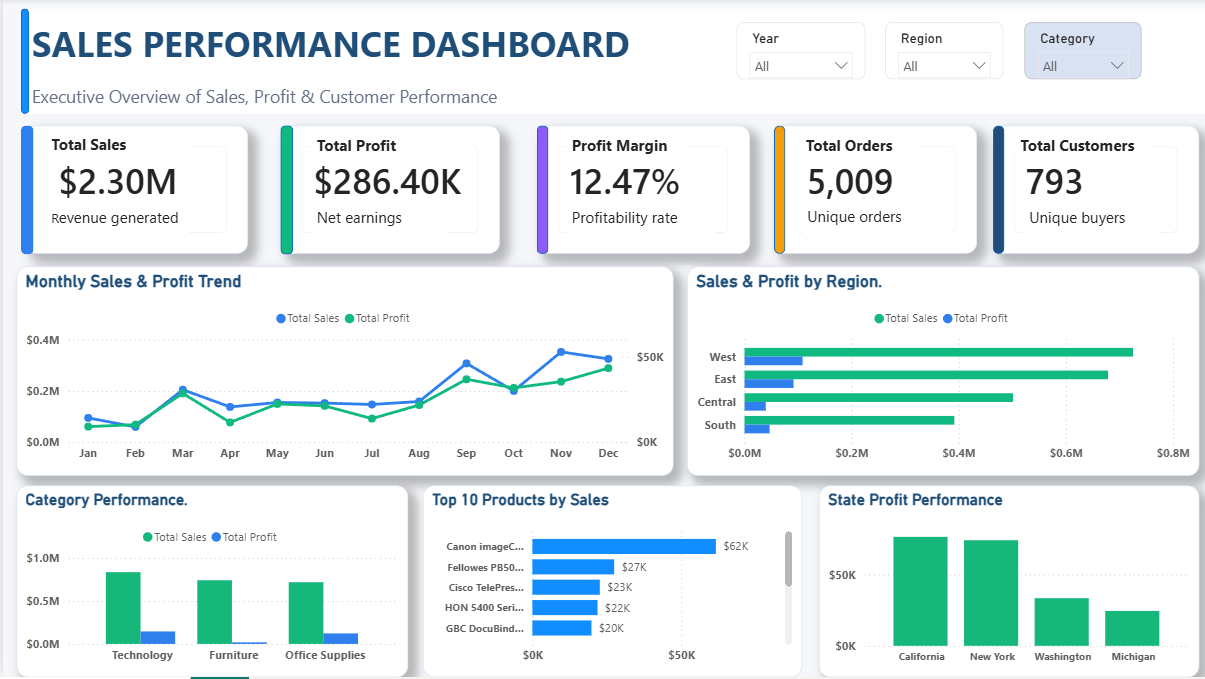

Layout of this report page (visuals, bound fields, positions):
{"tool":"powerbi","page":{"name":"Executive Overview","canvas":[1280,720],"ordinal":0},"visuals":[{"type":"textbox","box":[25,11.7,1255,75],"z":0},{"type":"textbox","box":[25,86.7,1255,36.7],"z":1000},{"type":"slicer","title":"Region","fields":{"Values":["Calendar.Year"]},"box":[777.8,25.4,136.8,60.4],"z":2000},{"type":"slicer","title":"Region","fields":{"Values":["cleaned_superstore_sales.Region"]},"box":[935.3,25.4,125.7,60.4],"z":3000},{"type":"slicer","title":"Region","fields":{"Values":["cleaned_superstore_sales.Category"]},"box":[1083.2,25.4,124.1,60.4],"z":4000},{"type":"cardVisual","fields":{"Data":["cleaned_superstore_sales.Total Sales"]},"box":[23.3,135,236.2,136.2],"z":5000},{"type":"shape","box":[18.3,135,13.3,136.7],"z":6000},{"type":"shape","box":[18.3,11.7,8.3,111.7],"z":7000},{"type":"textbox","box":[46.7,216.7,151.1,39.8],"z":8000},{"type":"textbox","box":[46.7,138.3,151.7,36.7],"z":9000},{"type":"cardVisual","fields":{"Data":["cleaned_superstore_sales.Total Profit"]},"box":[295,135,232.8,136.2],"z":10000},{"type":"cardVisual","fields":{"Data":["cleaned_superstore_sales.Overall Profit Margin %"]},"box":[566.7,135,225.9,136.2],"z":11000},{"type":"cardVisual","fields":{"Data":["cleaned_superstore_sales.Total Orders"]},"box":[818.3,135,215.5,136.2],"z":12000},{"type":"cardVisual","fields":{"Data":["cleaned_superstore_sales.Total Customers"]},"box":[1050,135,219,136.2],"z":13000},{"type":"shape","box":[295,135,13.3,136.7],"z":14000},{"type":"shape","box":[566.7,135,12.1,136.2],"z":15000},{"type":"shape","box":[818.3,135,12.1,136.2],"z":16000},{"type":"shape","box":[1050,135,12.1,136.2],"z":17000},{"type":"textbox","box":[328.3,140,167,35],"z":18000},{"type":"textbox","box":[328.3,216.7,143.2,49.3],"z":19000},{"type":"textbox","box":[598.3,140,127.2,35],"z":20000},{"type":"textbox","box":[598.3,216.7,157.5,39.8],"z":21000},{"type":"textbox","box":[846.7,140,122.5,35],"z":22000},{"type":"textbox","box":[848.3,215,157.5,39.8],"z":23000},{"type":"textbox","box":[1073.3,140,143.2,36.6],"z":24000},{"type":"textbox","box":[1083.3,216.7,143.2,49.3],"z":25000},{"type":"lineChart","title":" Monthly Sales & Profit Trend","fields":{"Category":["Calendar.Month"],"Y":["cleaned_superstore_sales.Total Sales"],"Y2":["cleaned_superstore_sales.Total Profit"]},"box":[15,285,696.7,221.7],"z":26000},{"type":"clusteredBarChart","title":"Sales & Profit by Region.","fields":{"Y":["cleaned_superstore_sales.Total Sales","cleaned_superstore_sales.Total Profit"],"Category":["cleaned_superstore_sales.Region"]},"box":[725,285,543.3,221.7],"z":27000},{"type":"clusteredColumnChart","title":"Category Performance.","fields":{"Category":["cleaned_superstore_sales.Category"],"Y":["cleaned_superstore_sales.Total Sales","cleaned_superstore_sales.Total Profit"]},"box":[15,516.7,415,203.3],"z":28000},{"type":"clusteredBarChart","title":"Top 10 Products by Sales","fields":{"Category":["cleaned_superstore_sales.Product Name"],"Y":["cleaned_superstore_sales.Total Sales"]},"box":[445,516.7,401.7,203.3],"z":29000},{"type":"clusteredColumnChart","title":"State Profit Performance","fields":{"Category":["cleaned_superstore_sales.State"],"Y":["cleaned_superstore_sales.Total Profit"]},"box":[865,516.7,403.3,203.3],"z":30000}]}

Visuals, with their boxes in screenshot pixels (x1, y1, x2, y2), scaled from the page's 1280x720 canvas onto the 1205x679 screenshot:
textbox: bbox=(24, 11, 1204, 82)
textbox: bbox=(24, 82, 1204, 116)
"Region" slicer: bbox=(732, 24, 861, 81)
"Region" slicer: bbox=(880, 24, 999, 81)
"Region" slicer: bbox=(1020, 24, 1137, 81)
cardVisual - cleaned_superstore_sales.Total Sales: bbox=(22, 127, 244, 256)
shape: bbox=(17, 127, 30, 256)
shape: bbox=(17, 11, 25, 116)
textbox: bbox=(44, 204, 186, 242)
textbox: bbox=(44, 130, 187, 165)
cardVisual - cleaned_superstore_sales.Total Profit: bbox=(278, 127, 497, 256)
cardVisual - cleaned_superstore_sales.Overall Profit Margin %: bbox=(533, 127, 746, 256)
cardVisual - cleaned_superstore_sales.Total Orders: bbox=(770, 127, 973, 256)
cardVisual - cleaned_superstore_sales.Total Customers: bbox=(988, 127, 1195, 256)
shape: bbox=(278, 127, 290, 256)
shape: bbox=(533, 127, 545, 256)
shape: bbox=(770, 127, 782, 256)
shape: bbox=(988, 127, 1000, 256)
textbox: bbox=(309, 132, 466, 165)
textbox: bbox=(309, 204, 444, 251)
textbox: bbox=(563, 132, 683, 165)
textbox: bbox=(563, 204, 712, 242)
textbox: bbox=(797, 132, 912, 165)
textbox: bbox=(799, 203, 947, 240)
textbox: bbox=(1010, 132, 1145, 167)
textbox: bbox=(1020, 204, 1155, 251)
" Monthly Sales & Profit Trend" lineChart: bbox=(14, 269, 670, 478)
"Sales & Profit by Region." clusteredBarChart: bbox=(683, 269, 1194, 478)
"Category Performance." clusteredColumnChart: bbox=(14, 487, 405, 678)
"Top 10 Products by Sales" clusteredBarChart: bbox=(419, 487, 797, 678)
"State Profit Performance" clusteredColumnChart: bbox=(814, 487, 1194, 678)
